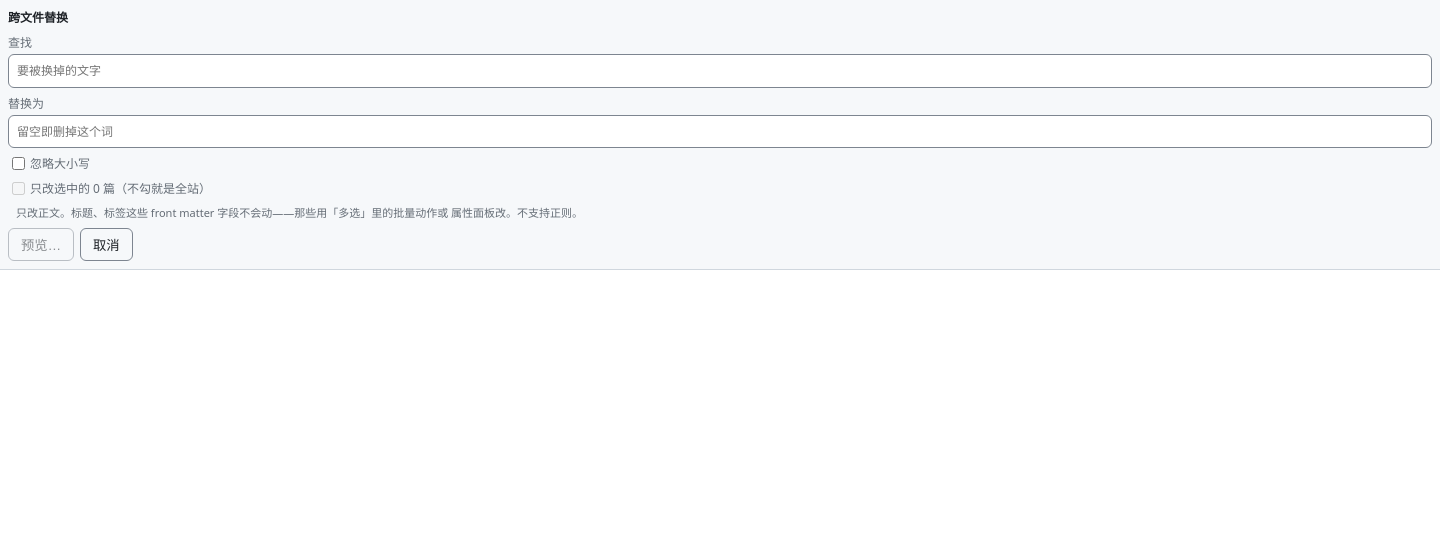
Test: ReplacePanel › 忙的时候不让重复提交
Step 1. Type "旧称呼" into the field labelled "查找" → (720, 71), box x1=8 y1=54 x2=1432 y2=88
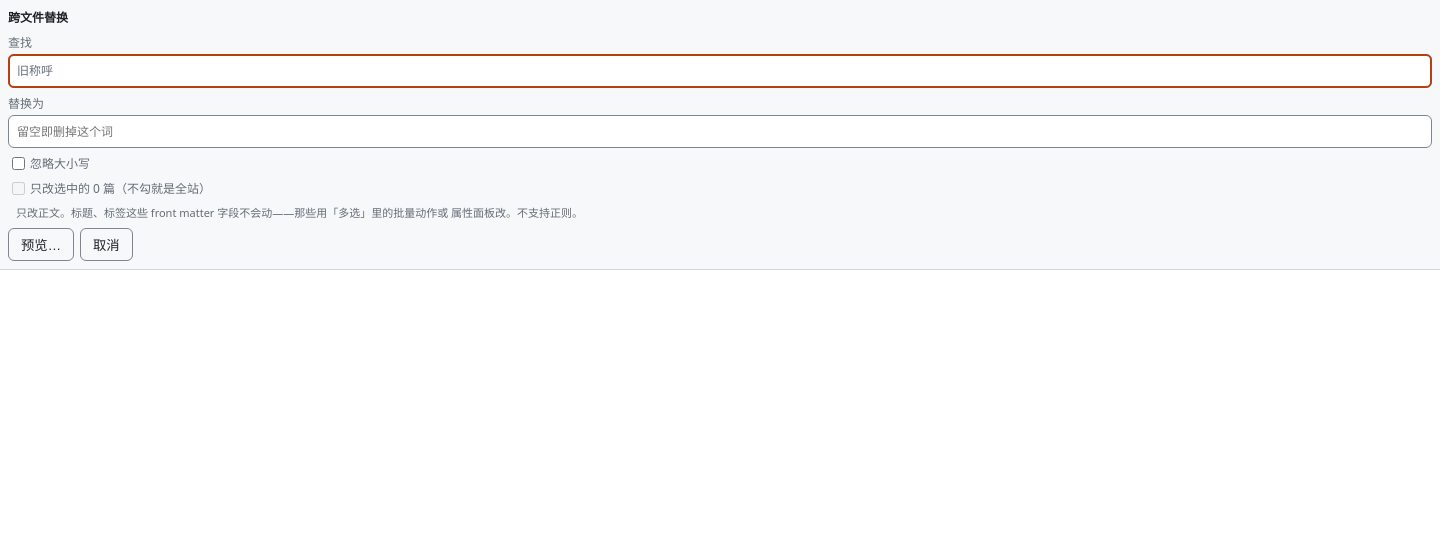
Step 2. Submit the form, box x1=0 y1=0 x2=1439 y2=270
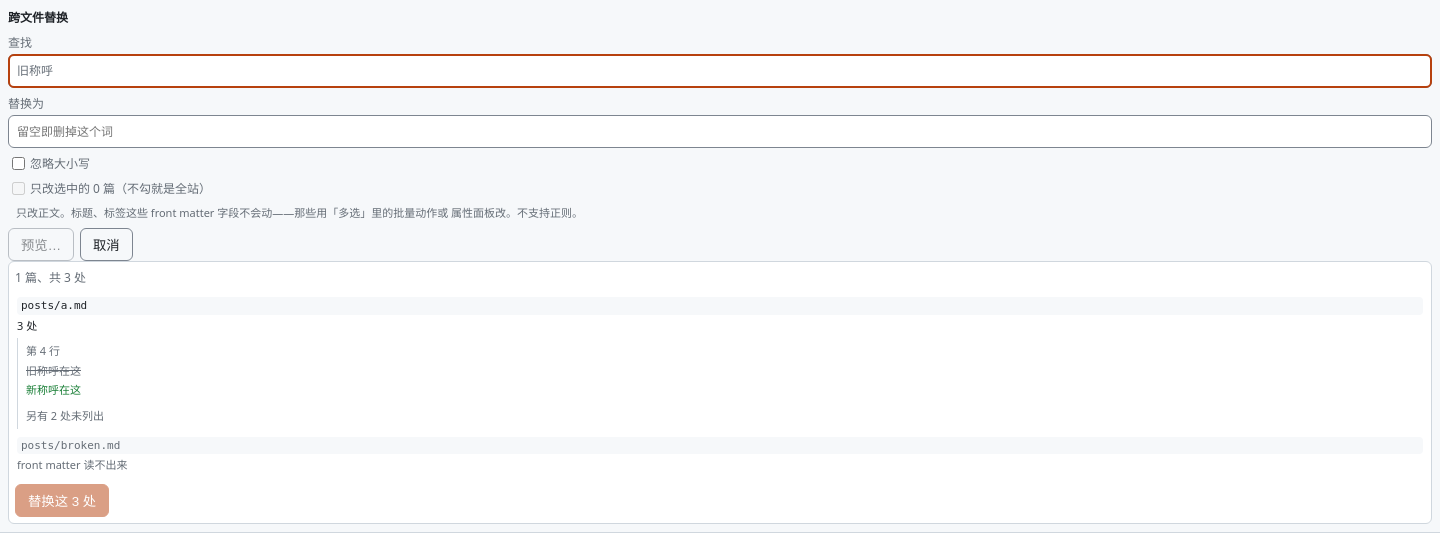
Check: the button "预览…" is disabled, box x1=8 y1=228 x2=74 y2=261
Check: the button "替换这 3 处" is disabled, box x1=15 y1=484 x2=109 y2=517
